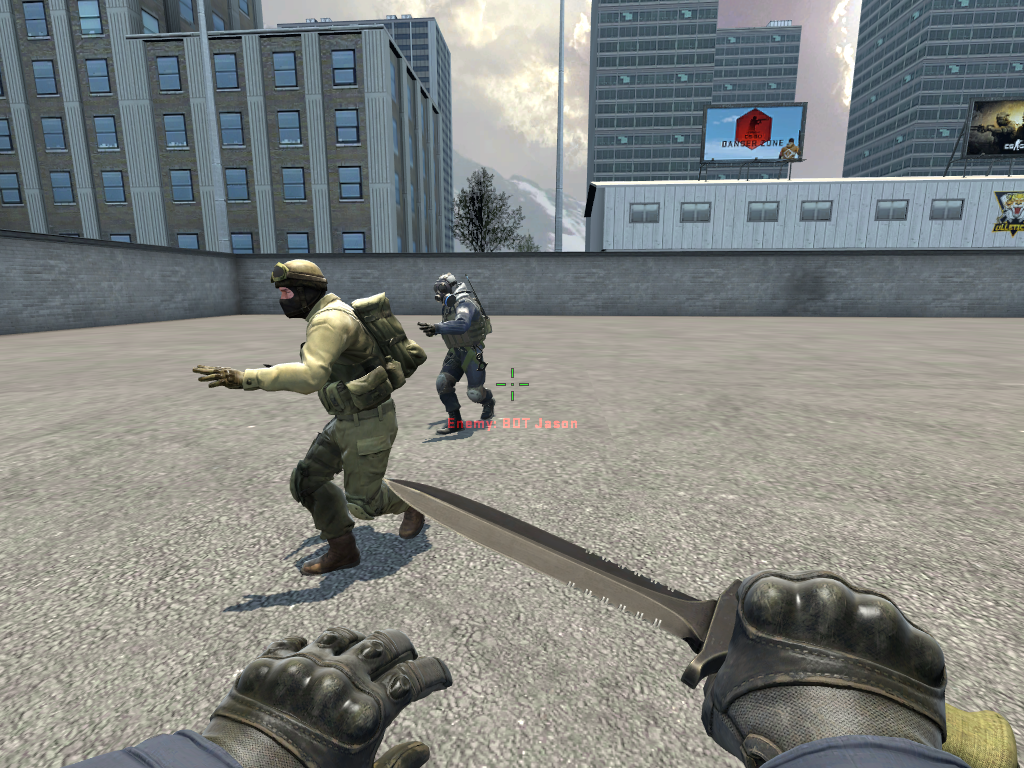ct head: (270, 257, 333, 320), (431, 271, 467, 307)
